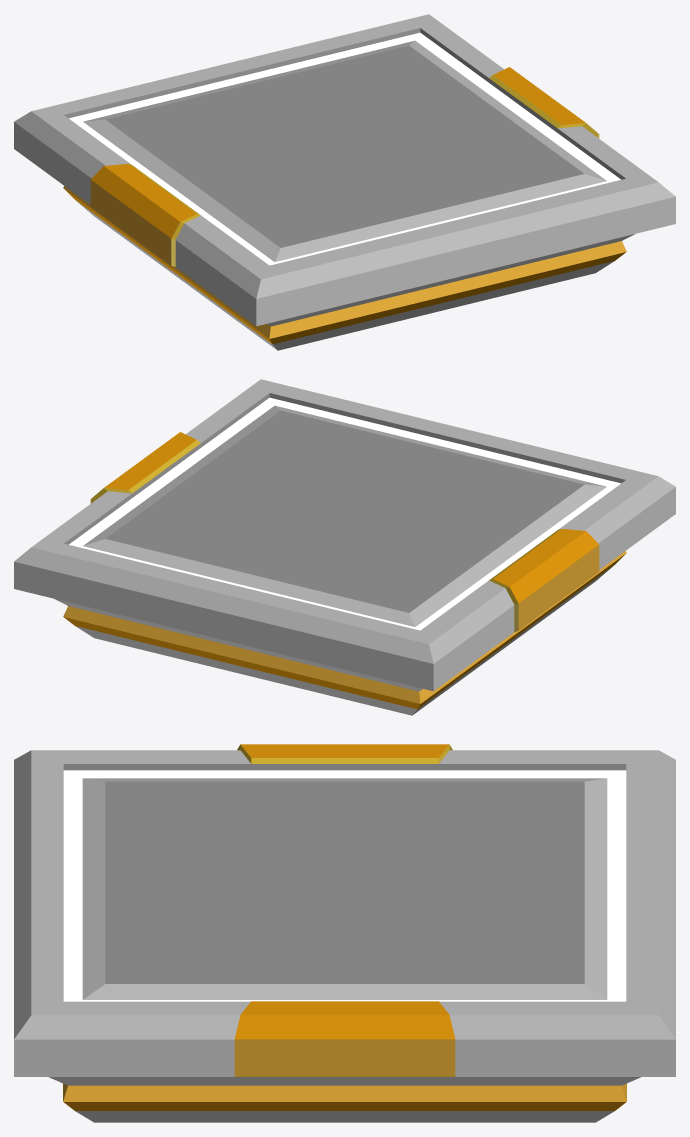
The model's file is Horizontal Platform Scifi.glb.
3 views of the same model, one above another, from view 1: azimuth 30°, elevation 25°; view 2: azimuth 150°, elevation 25°; view 3: azimuth 270°, elevation 25° (orthographic). The views are drawn at different scales.
Visible parts, largest first — view 1: Platform; view 2: Platform; view 3: Platform.
Boxes of the visible parts, x1,y1,x2,y2 form: Platform: (14,14,675,350); Platform: (14,379,675,715); Platform: (14,744,675,1122).
Size of what is drawn, in the model's own units: 2.04 by 0.6125 by 2.
2 materials, 1 textured.
